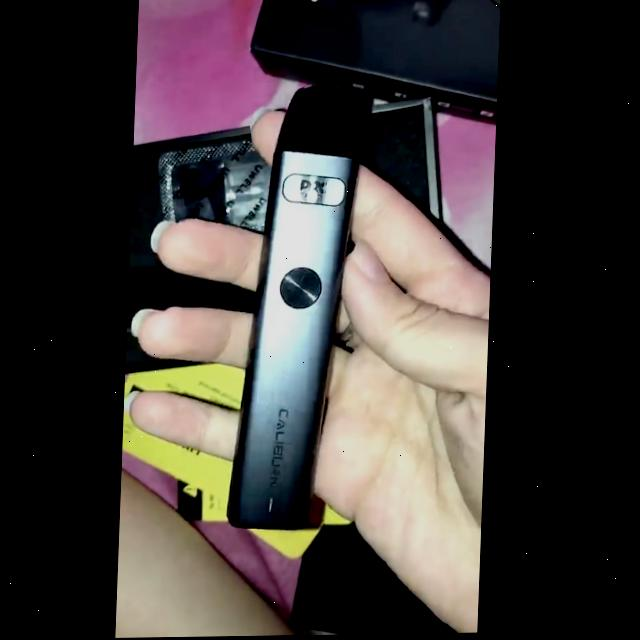vape: (228, 85, 372, 532)
